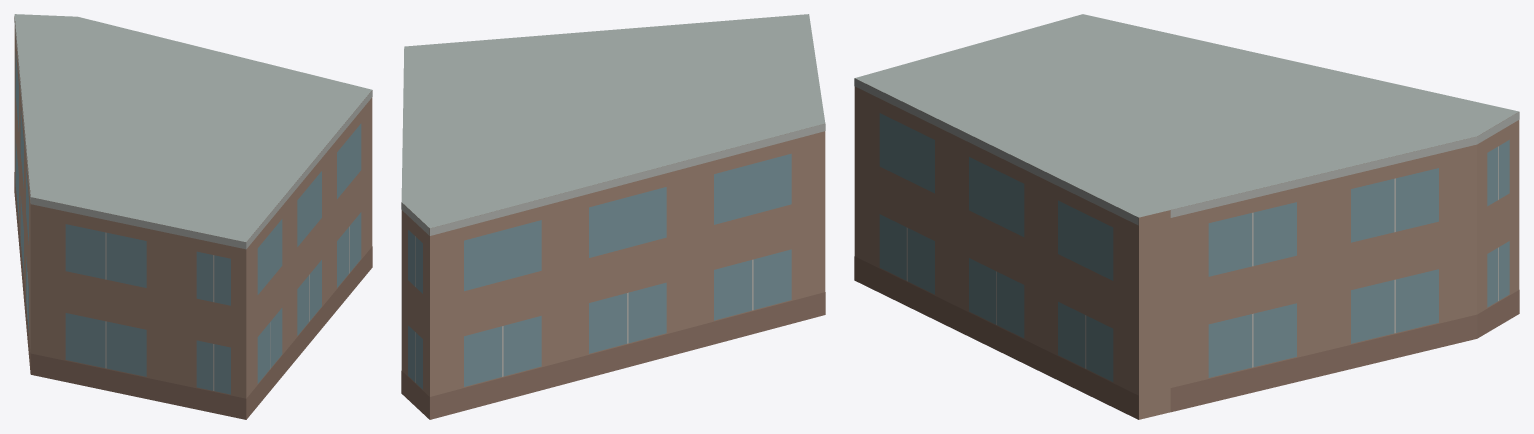
Rendered from survey-upis-32466270.glb.
The picture shows the model from 3 angles, left to right: view 1: azimuth 30°, elevation 25°; view 2: azimuth 150°, elevation 25°; view 3: azimuth 270°, elevation 25°; orthographic projection. The views are drawn at different scales.
Visible parts, largest first — view 1: survey-upis-32466270.tmp; view 2: survey-upis-32466270.tmp; view 3: survey-upis-32466270.tmp.
Boxes of the visible parts, x1,y1,x2,y2 form: survey-upis-32466270.tmp: (14,14,372,419); survey-upis-32466270.tmp: (401,14,825,419); survey-upis-32466270.tmp: (854,14,1519,419).
Size of the model in its own units: 13.17 by 6.1 by 18.18.
